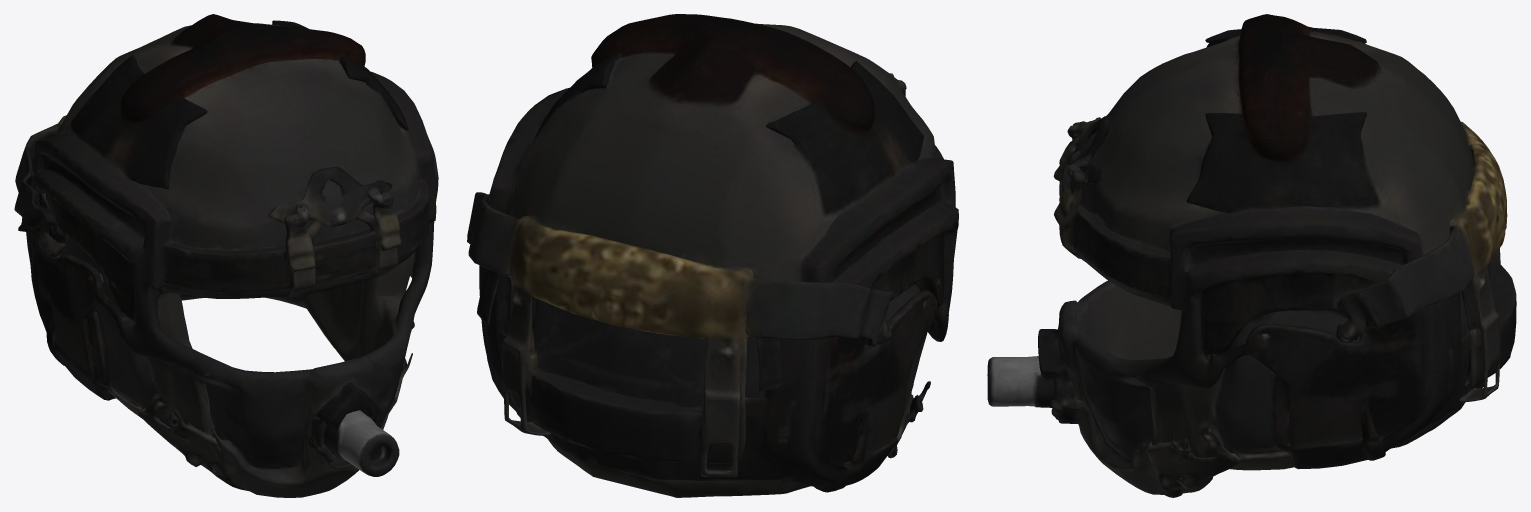
Rendered from camo_helmet.glb.
3 renders of one model, left to right at view 1: azimuth 30°, elevation 25°; view 2: azimuth 150°, elevation 25°; view 3: azimuth 270°, elevation 25°, orthographic. The views are drawn at different scales.
Visible parts, largest first — view 1: geometry_0; view 2: geometry_0; view 3: geometry_0.
Part boxes in pixels (box(x1,y1,x2,y2)): geometry_0: box(14, 14, 438, 497); geometry_0: box(467, 14, 958, 497); geometry_0: box(987, 14, 1516, 497).
Size of the model in its own units: 0.8119 by 0.9269 by 1.
1 material, 1 textured.
